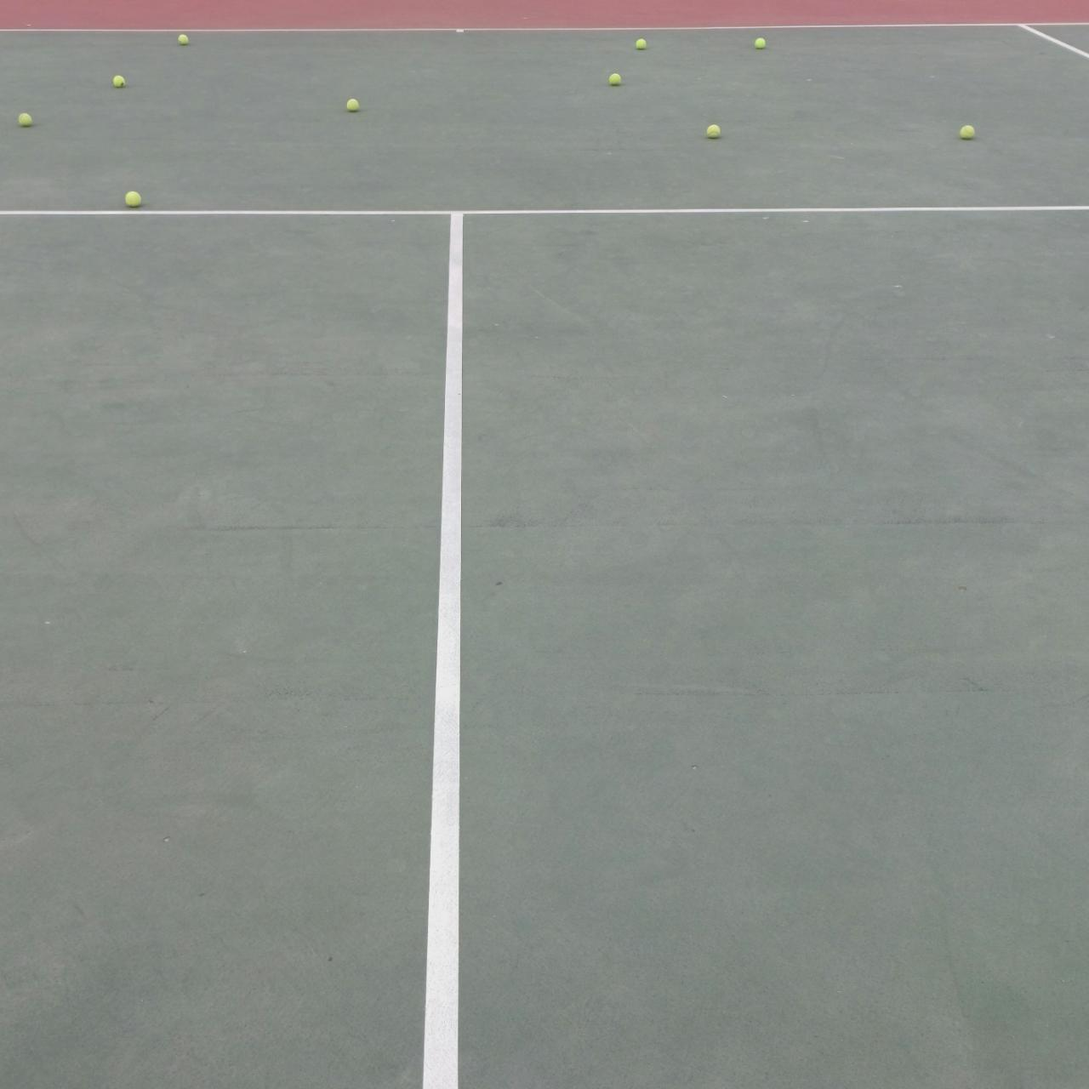tennis-ball: (125, 189, 143, 207), (706, 122, 722, 139), (961, 123, 977, 140), (19, 111, 34, 126), (346, 96, 361, 111), (609, 71, 624, 85), (113, 73, 127, 87), (178, 31, 191, 45), (755, 36, 767, 48), (636, 37, 648, 49)
